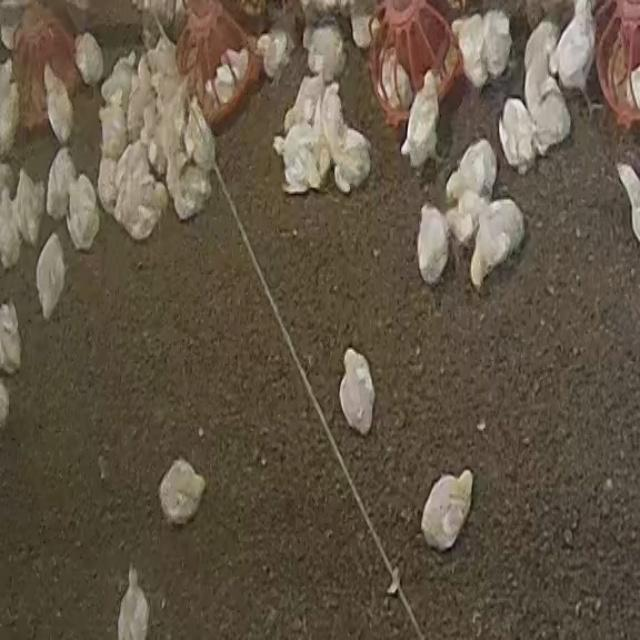chicken: (469, 197, 526, 289), (420, 470, 472, 552), (400, 74, 442, 172), (444, 139, 496, 209), (528, 75, 572, 157), (274, 122, 322, 194), (113, 177, 166, 240), (168, 142, 208, 222), (498, 98, 540, 172), (160, 459, 205, 524), (65, 170, 101, 250), (523, 17, 558, 99), (11, 168, 45, 250), (36, 236, 68, 322), (416, 203, 449, 285), (42, 63, 74, 147), (341, 347, 374, 428), (327, 130, 373, 188), (453, 12, 488, 87), (210, 46, 252, 105), (184, 101, 216, 175), (479, 8, 512, 79), (306, 21, 345, 81), (118, 567, 150, 639), (46, 148, 78, 220), (287, 70, 322, 132), (616, 162, 640, 250), (320, 82, 347, 155), (101, 52, 137, 105), (148, 29, 180, 85), (98, 95, 127, 156), (74, 30, 104, 86), (447, 199, 479, 248), (260, 31, 290, 79)
